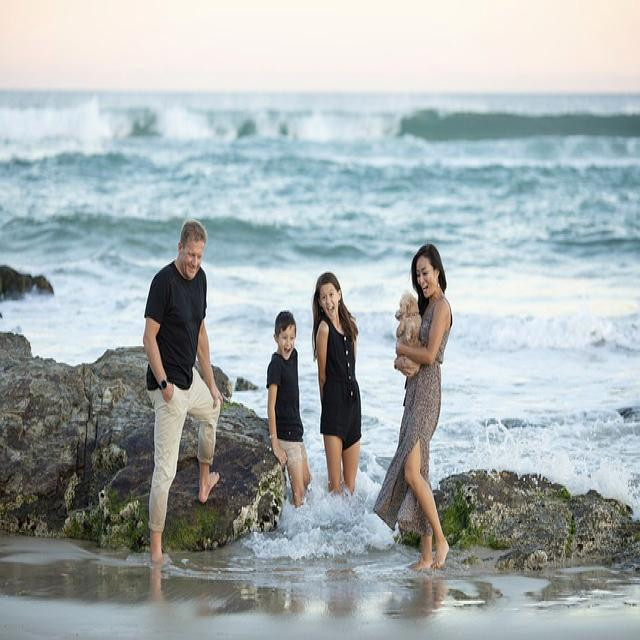adult: (141, 218, 223, 571), (371, 242, 454, 571)
child: (312, 270, 363, 520), (266, 310, 312, 516)
